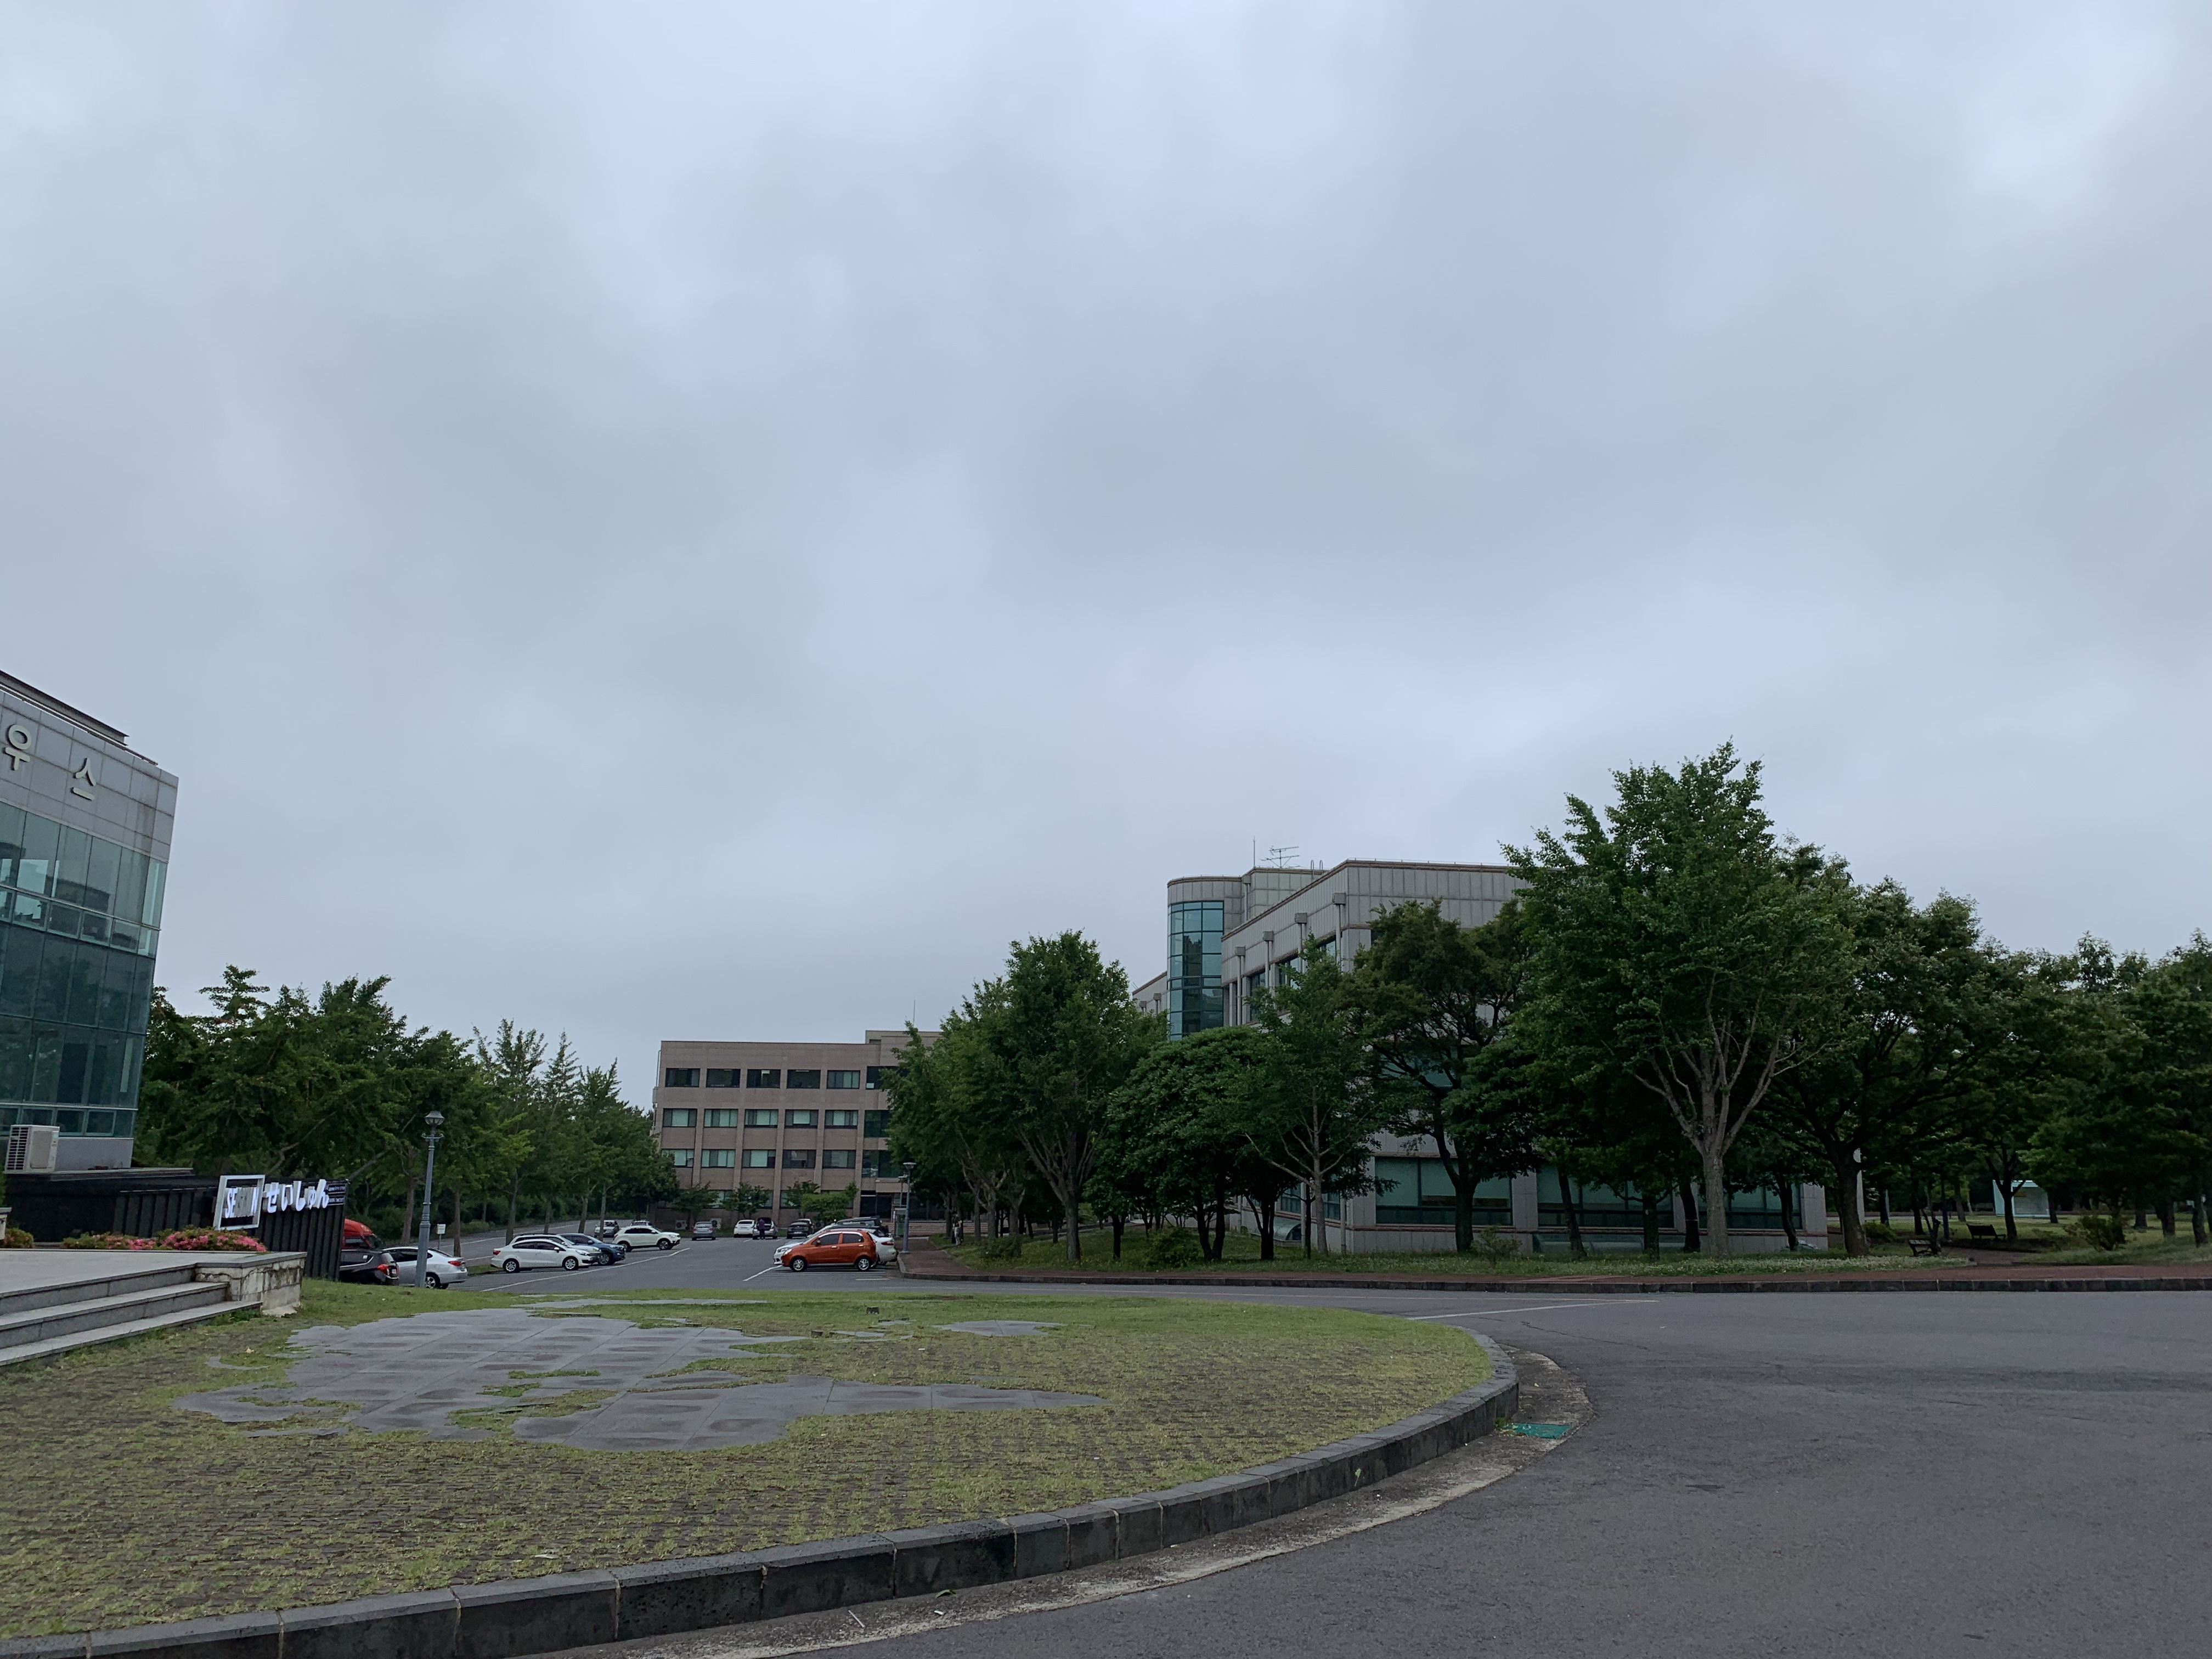Global House: (5, 662, 300, 1347)
Joint Experimental Labs: (634, 1012, 956, 1227)
Second Library: (1130, 842, 1601, 1039), (1341, 1117, 1839, 1274)
